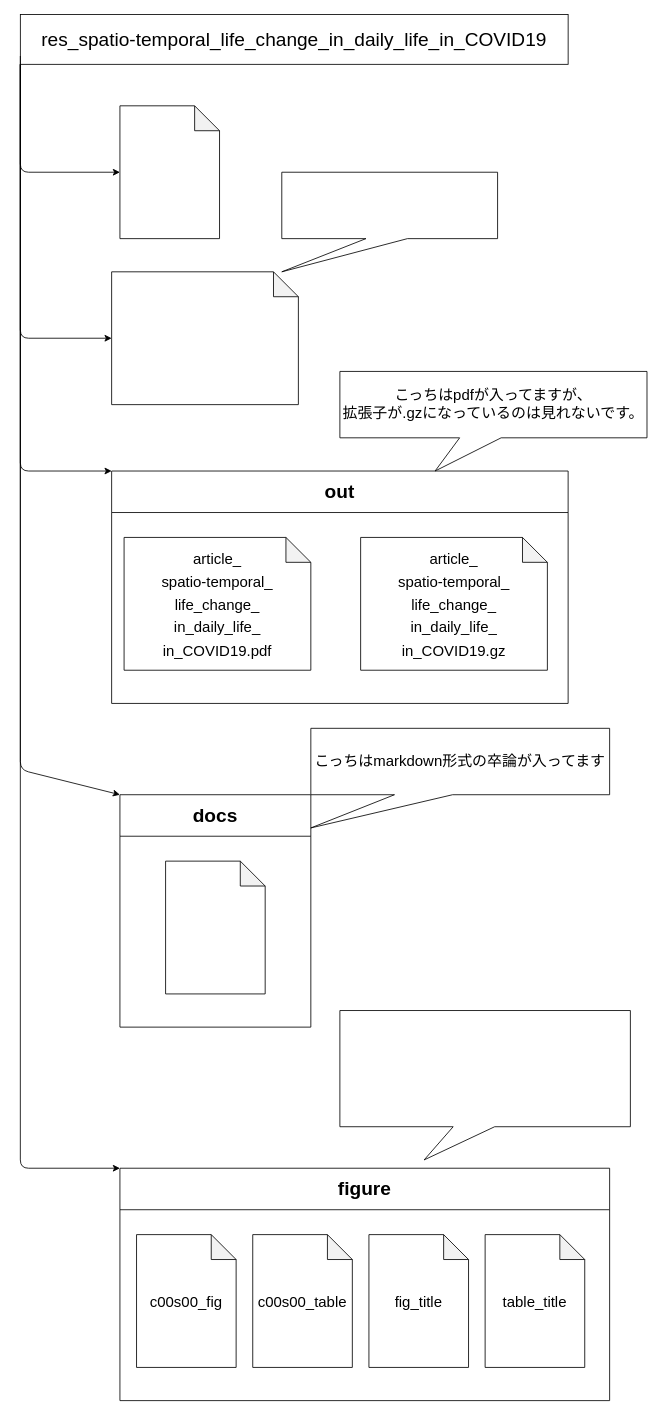
Image size: 662x1415. Some labels were removed from this diagram. The centre of each missing label's shape, as x and y in pixels:
"article_ spatio-temporal_ life_change_ in_daily_life_ in_COVID19.tex" goes at pixel 204 338.
"README.md" goes at pixel 169 172.
"ここは、卒論で使用した図表です。 c：章 s：説 （例）c04s01→第4章第1節" goes at pixel 484 1085.
"こっちはtex形式の卒論です。" goes at pixel 389 221.
"卒業論文.md" goes at pixel 215 927.
